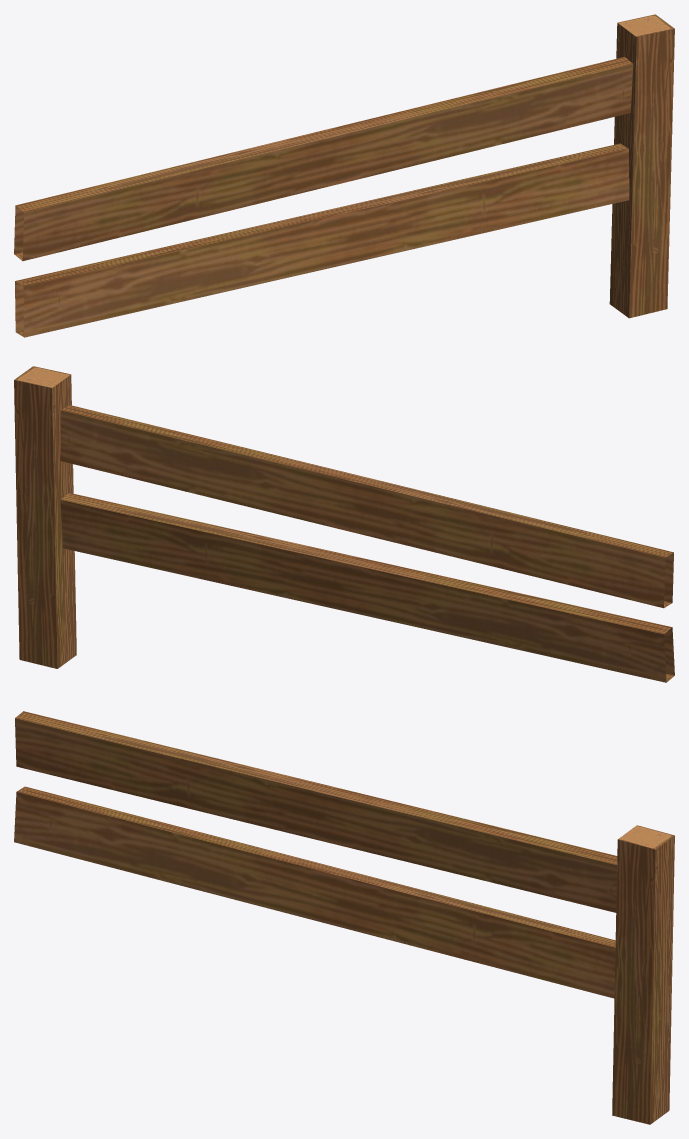
File: Prop_WoodenFence_Extension2.gltf
3 renders of one model, top to bottom at view 1: azimuth 30°, elevation 25°; view 2: azimuth 150°, elevation 25°; view 3: azimuth 330°, elevation 25°, orthographic.
Visible parts, largest first — view 1: Prop_WoodenFence_Extension2; view 2: Prop_WoodenFence_Extension2; view 3: Prop_WoodenFence_Extension2.
Part boxes in pixels (<box>): Prop_WoodenFence_Extension2: <box>14,14,674,337</box>; Prop_WoodenFence_Extension2: <box>14,366,674,682</box>; Prop_WoodenFence_Extension2: <box>14,711,674,1124</box>.
Bounding box in the file's own units: 2.03 × 0.8381 × 0.1104.
1 material, 1 textured.
